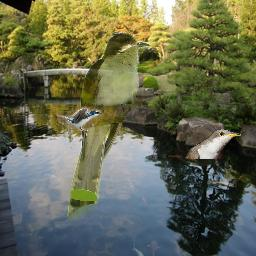Cuckoo: (67, 32, 151, 221), (185, 129, 241, 159)
Swallow: (56, 107, 102, 131)
